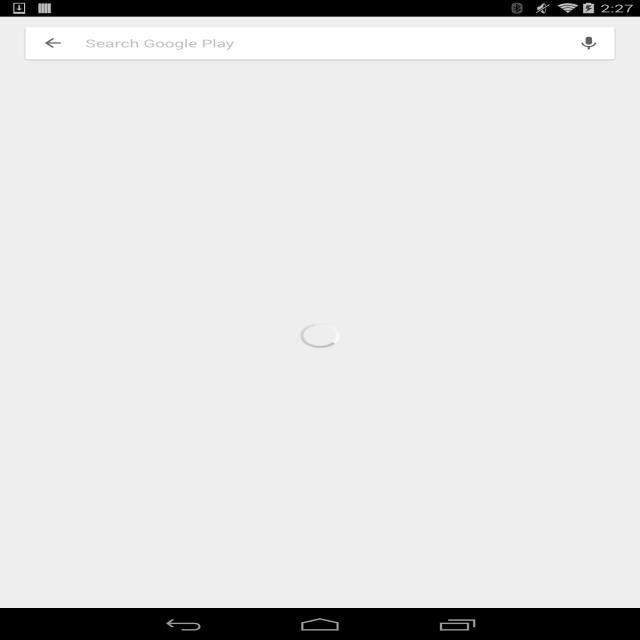button: (577, 34, 600, 54), (41, 31, 65, 50)
field: (28, 28, 615, 60)
label: (83, 34, 236, 51)
